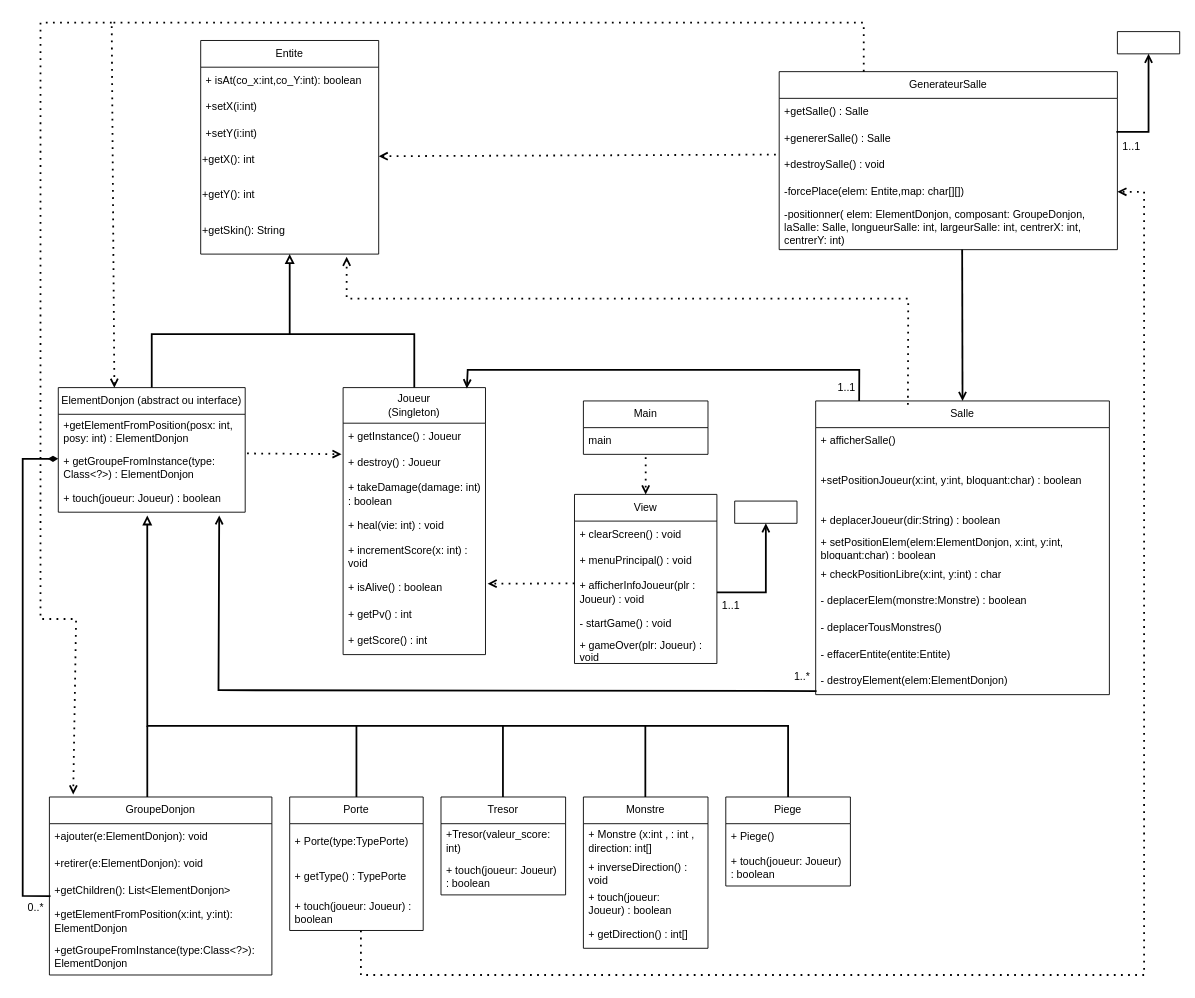
The diagram is 1195 pixels wide and 998 high, and some of its shapes have lost their labels. The shapes that lost their labels are listed below. From the top down, each one's centre as x and y in pixels, then its label:
At point (1148, 42): "Random".
At point (765, 511): "Scanner".
